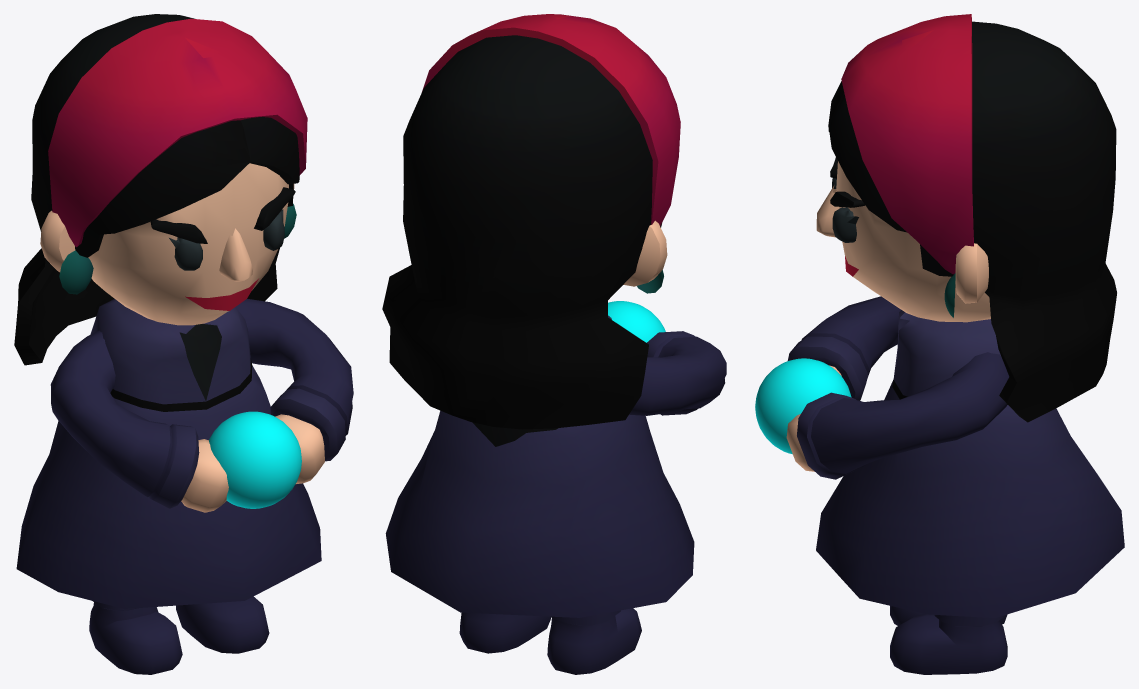
The model's file is Fortune_Teller.glb.
3 renders of one model, left to right at view 1: azimuth 30°, elevation 25°; view 2: azimuth 150°, elevation 25°; view 3: azimuth 270°, elevation 25°, orthographic.
Parts seen in each view (by area): view 1: Cloak.007, Bandana, Mage_ArmLeft.006, Hair.003, Mage_Head.008, MagicBall, Mage_LegRight.006, Mage_LegLeft.006, Body.009, Eyebrow.001, Mage_Head.007, Earrings.001; view 2: Hair.003, Cloak.007, Bandana, Mage_ArmLeft.006, Mage_LegRight.006, Mage_LegLeft.006, Mage_Head.008, MagicBall, Body.009; view 3: Cloak.007, Hair.003, Bandana, Mage_ArmLeft.006, Mage_Head.008, Mage_LegLeft.006, MagicBall, Mage_Head.007.
Part boxes in pixels (left/top/right/bottom): Cloak.007: left=16, top=298, right=321, bottom=608; Bandana: left=48, top=18, right=307, bottom=247; Mage_ArmLeft.006: left=50, top=298, right=353, bottom=512; Hair.003: left=14, top=14, right=299, bottom=365; Mage_Head.008: left=40, top=163, right=294, bottom=325; MagicBall: left=209, top=411, right=301, bottom=508; Mage_LegRight.006: left=89, top=601, right=182, bottom=674; Mage_LegLeft.006: left=176, top=596, right=269, bottom=653; Body.009: left=179, top=324, right=221, bottom=400; Eyebrow.001: left=150, top=187, right=295, bottom=243; Mage_Head.007: left=169, top=209, right=284, bottom=270; Earrings.001: left=59, top=203, right=296, bottom=294; Hair.003: left=382, top=35, right=661, bottom=429; Cloak.007: left=385, top=315, right=694, bottom=617; Bandana: left=422, top=14, right=680, bottom=226; Mage_ArmLeft.006: left=629, top=331, right=726, bottom=415; Mage_LegRight.006: left=547, top=608, right=641, bottom=674; Mage_LegLeft.006: left=459, top=612, right=551, bottom=653; Mage_Head.008: left=623, top=220, right=667, bottom=286; MagicBall: left=608, top=301, right=665, bottom=342; Body.009: left=472, top=422, right=558, bottom=446; Cloak.007: left=816, top=310, right=1124, bottom=617; Hair.003: left=828, top=21, right=1116, bottom=422; Bandana: left=841, top=14, right=973, bottom=274; Mage_ArmLeft.006: left=786, top=296, right=1009, bottom=479; Mage_Head.008: left=816, top=161, right=990, bottom=322; Mage_LegLeft.006: left=890, top=614, right=1007, bottom=674; MagicBall: left=755, top=358, right=851, bottom=454; Mage_Head.007: left=832, top=178, right=858, bottom=242.
Bounding box in the file's own units: 1.08 × 2.27 × 1.24.
Materials: 6 (6 with a texture image).
